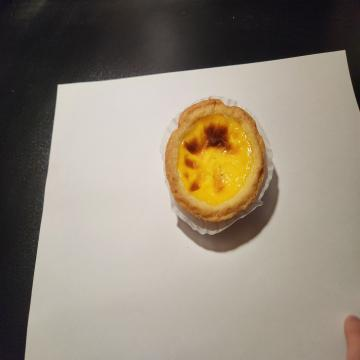EggTart: (162, 96, 266, 224)
